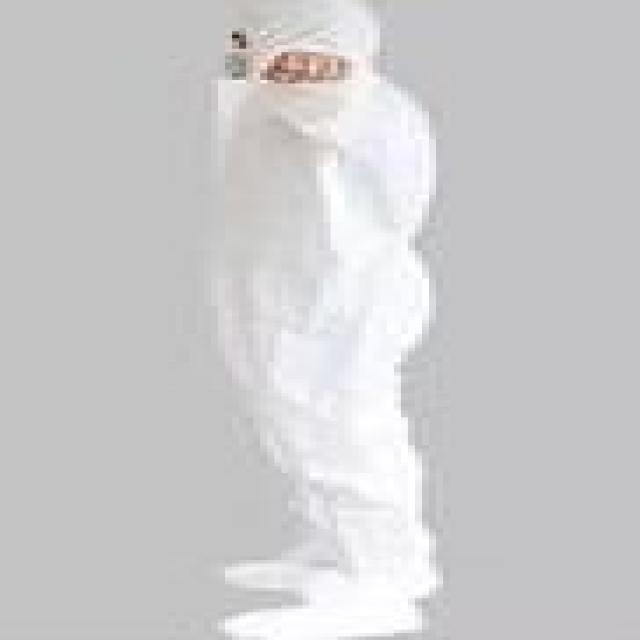Coverall: (42, 4, 563, 637)
